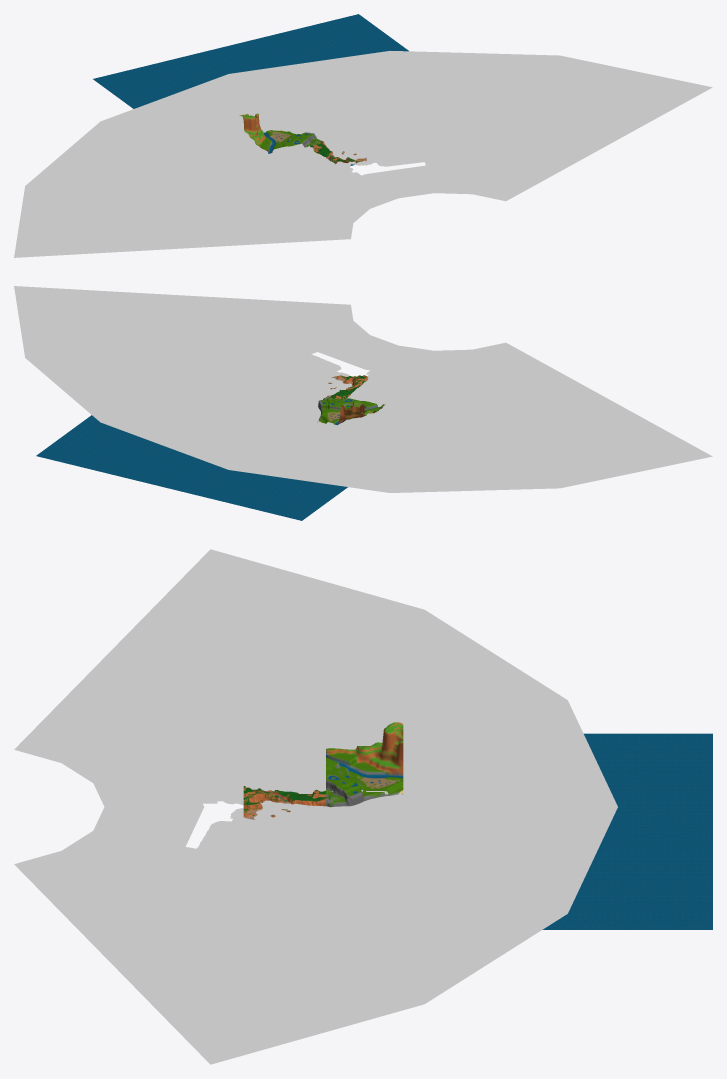
File: a_t01_i02_outside.gltf
3 renders of one model, top to bottom at view 1: azimuth 30°, elevation 25°; view 2: azimuth 150°, elevation 25°; view 3: azimuth 270°, elevation 25°, orthographic. The views are drawn at different scales.
Visible parts, largest first — view 1: nomerge_sea01_mesh_shape:_objects_un_temporary_sea01_water01, um__model__modelShape:a_t01_i02_ter_06_00, um__model__modelShape:a_t01_i02_ter_06_02; view 2: nomerge_sea01_mesh_shape:_objects_un_temporary_sea01_water01, um__model__modelShape:a_t01_i02_ter_06_00, um__model__modelShape:a_t01_i02_ter_06_02, um__model__modelShape:a_t01_i02_ter_05_01; view 3: nomerge_sea01_mesh_shape:_objects_un_temporary_sea01_water01, um__model__modelShape:a_t01_i02_ter_06_00, um__model__modelShape:a_t01_i02_ter_06_02, um__model__modelShape:a_t01_i02_ter_05_01, um__model__modelShape:a_t01_i02_ter_06_01.
Boxes of the visible parts, x1=… form: nomerge_sea01_mesh_shape:_objects_un_temporary_sea01_water01: x1=14, y1=50, x2=712, y2=257; um__model__modelShape:a_t01_i02_ter_06_00: x1=93, y1=14, x2=408, y2=165; um__model__modelShape:a_t01_i02_ter_06_02: x1=239, y1=113, x2=308, y2=153; nomerge_sea01_mesh_shape:_objects_un_temporary_sea01_water01: x1=14, y1=286, x2=712, y2=492; um__model__modelShape:a_t01_i02_ter_06_00: x1=36, y1=415, x2=347, y2=520; um__model__modelShape:a_t01_i02_ter_06_02: x1=317, y1=398, x2=385, y2=425; um__model__modelShape:a_t01_i02_ter_05_01: x1=328, y1=376, x2=366, y2=398; nomerge_sea01_mesh_shape:_objects_un_temporary_sea01_water01: x1=14, y1=549, x2=617, y2=1064; um__model__modelShape:a_t01_i02_ter_06_00: x1=542, y1=733, x2=712, y2=929; um__model__modelShape:a_t01_i02_ter_06_02: x1=326, y1=722, x2=403, y2=795; um__model__modelShape:a_t01_i02_ter_05_01: x1=248, y1=787, x2=325, y2=819; um__model__modelShape:a_t01_i02_ter_06_01: x1=326, y1=785, x2=392, y2=807.
Size of the model in its own units: 7877 by 312 by 4514.
Materials: 6 (5 with a texture image).
